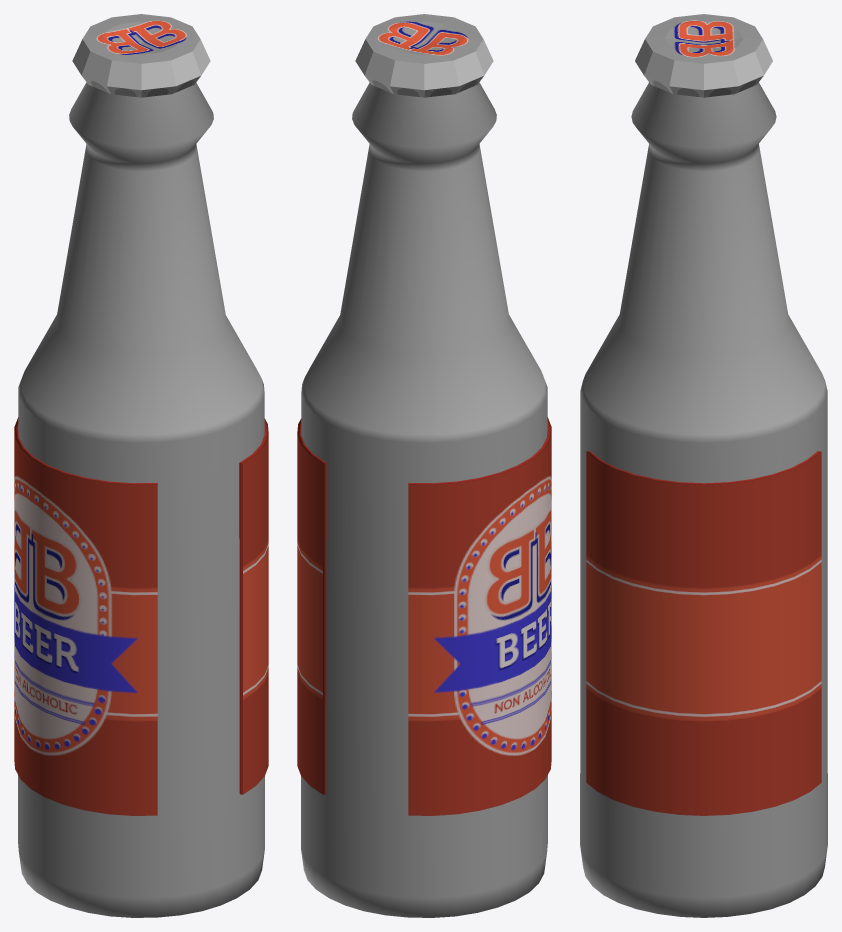
The model's file is bottle_v3.fbx.
The picture shows the model from 3 angles, left to right: view 1: azimuth 30°, elevation 25°; view 2: azimuth 150°, elevation 25°; view 3: azimuth 270°, elevation 25°; orthographic projection.
Visible parts, largest first — view 1: bottle1, bottle_etiquet, cork; view 2: bottle1, bottle_etiquet, cork; view 3: bottle1, bottle_etiquet, cork.
Part boxes in pixels (x1,y1,x2,y2): bottle1: (18, 82, 264, 917); bottle_etiquet: (14, 417, 268, 815); cork: (72, 14, 210, 97); bottle1: (301, 82, 547, 917); bottle_etiquet: (297, 417, 551, 815); cork: (355, 14, 493, 97); bottle1: (580, 82, 827, 917); bottle_etiquet: (586, 451, 821, 815); cork: (635, 14, 772, 97).
Size of the model in its own units: 5.83 by 20.92 by 5.66.
